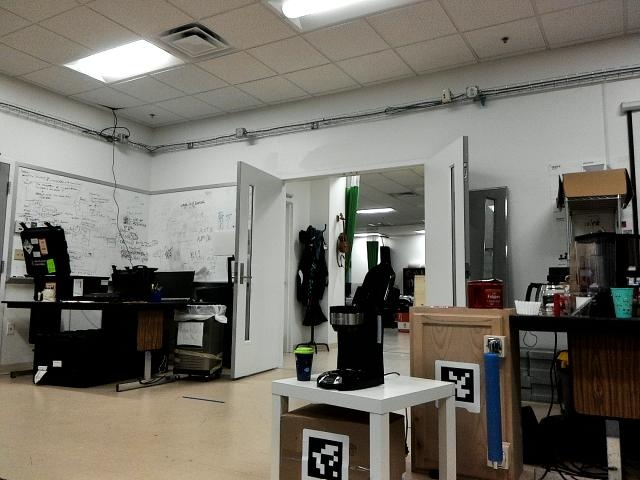coffee_cup: (610, 286, 632, 320)
noodle_handle: (479, 344, 512, 462)
useless_cup: (294, 347, 316, 384)
